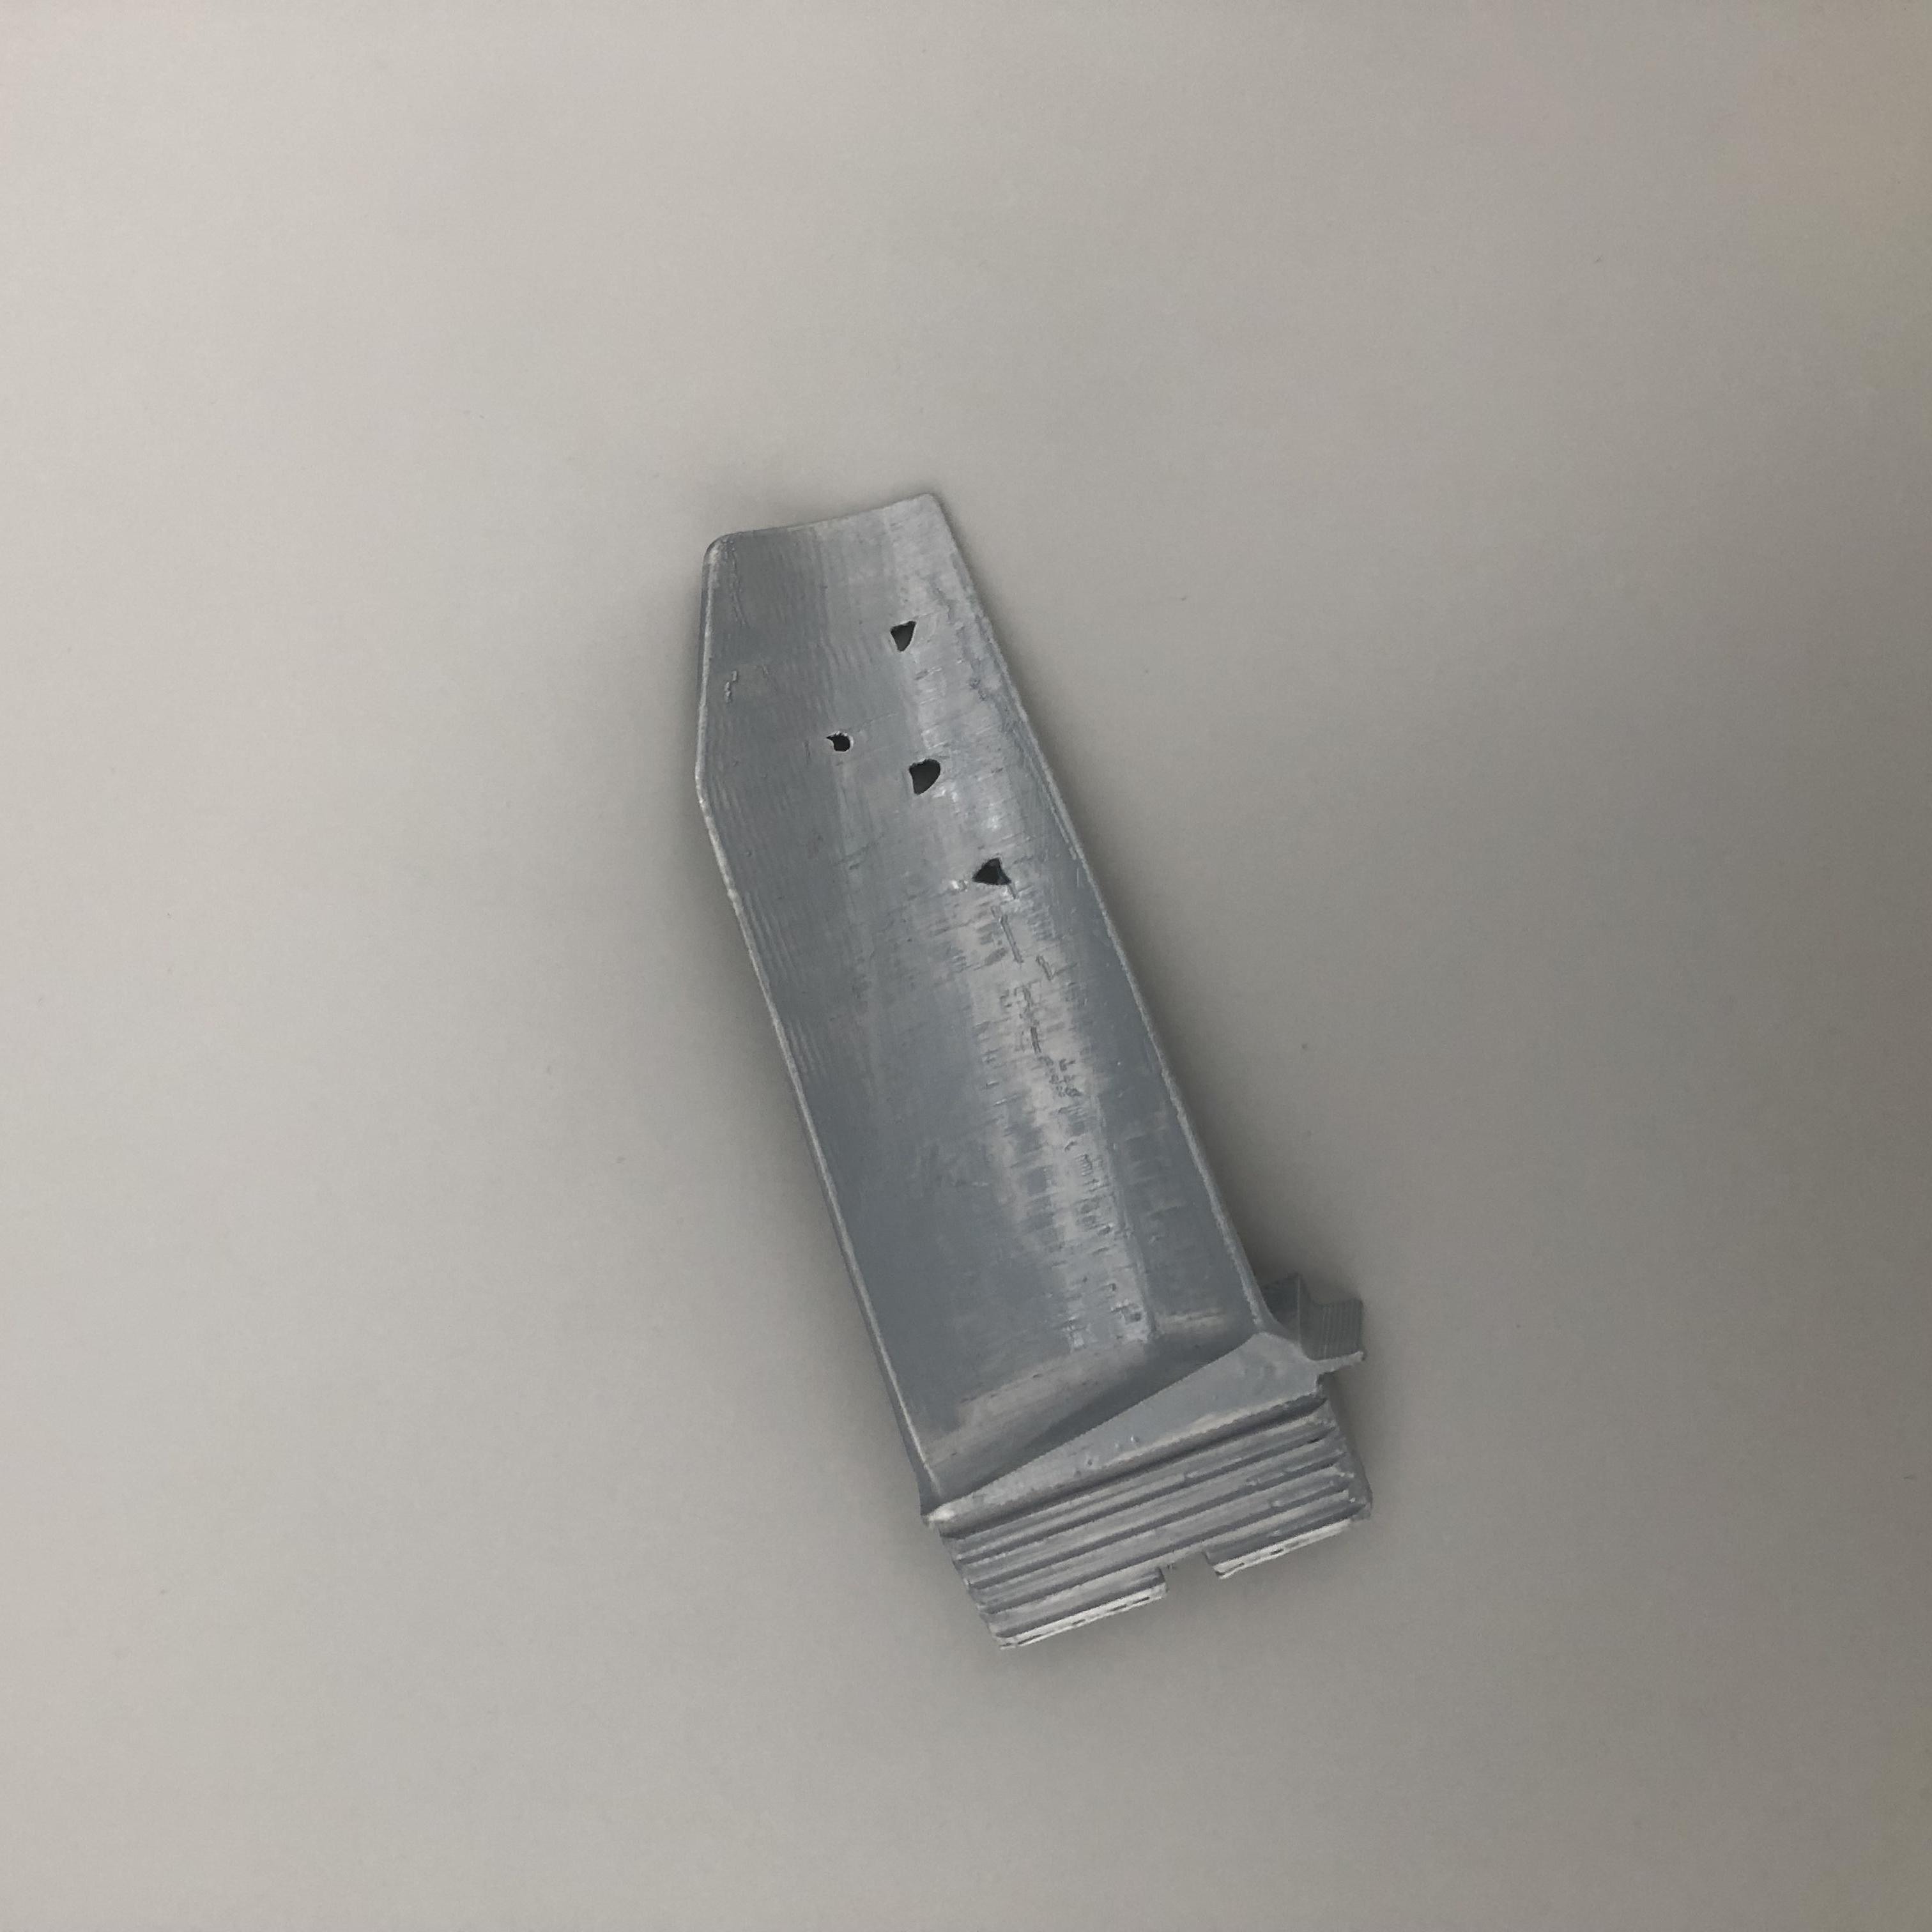breakdown: (844, 621, 1010, 886)
